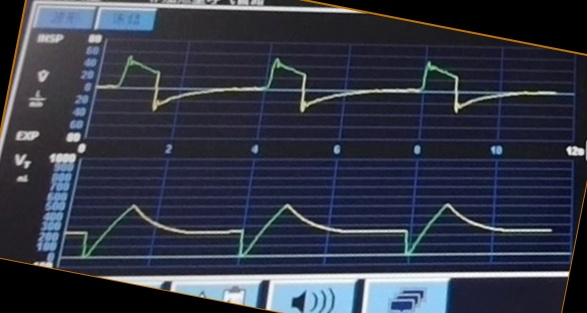Flow: (105, 51, 546, 139)
Leakage Volume: (72, 194, 545, 271)
